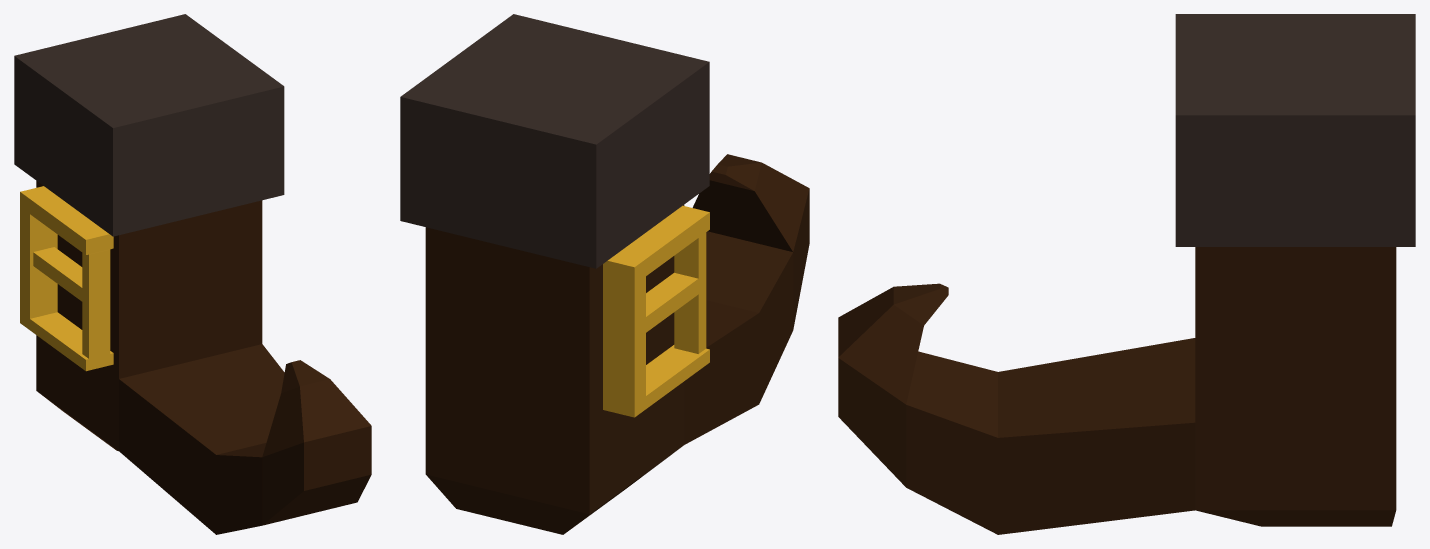
File: Bota.fbx
The picture shows the model from 3 angles, left to right: view 1: azimuth 30°, elevation 25°; view 2: azimuth 150°, elevation 25°; view 3: azimuth 270°, elevation 25°; orthographic projection. The views are drawn at different scales.
Visible parts, largest first — view 1: Cube; view 2: Cube; view 3: Cube.
Part boxes in pixels (x1,y1,x2,y2): Cube: [14, 14, 371, 534]; Cube: [400, 14, 809, 534]; Cube: [838, 14, 1415, 534].
Size of the model in its own units: 77.2 by 144 by 172.
